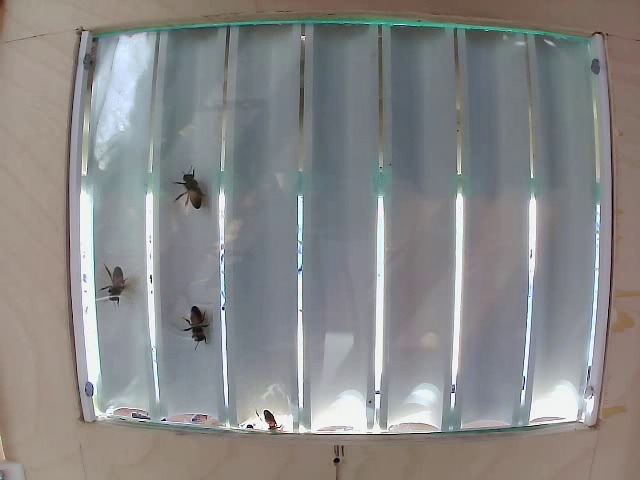bee: (180, 166, 224, 220), (102, 274, 136, 310), (183, 300, 216, 334)
